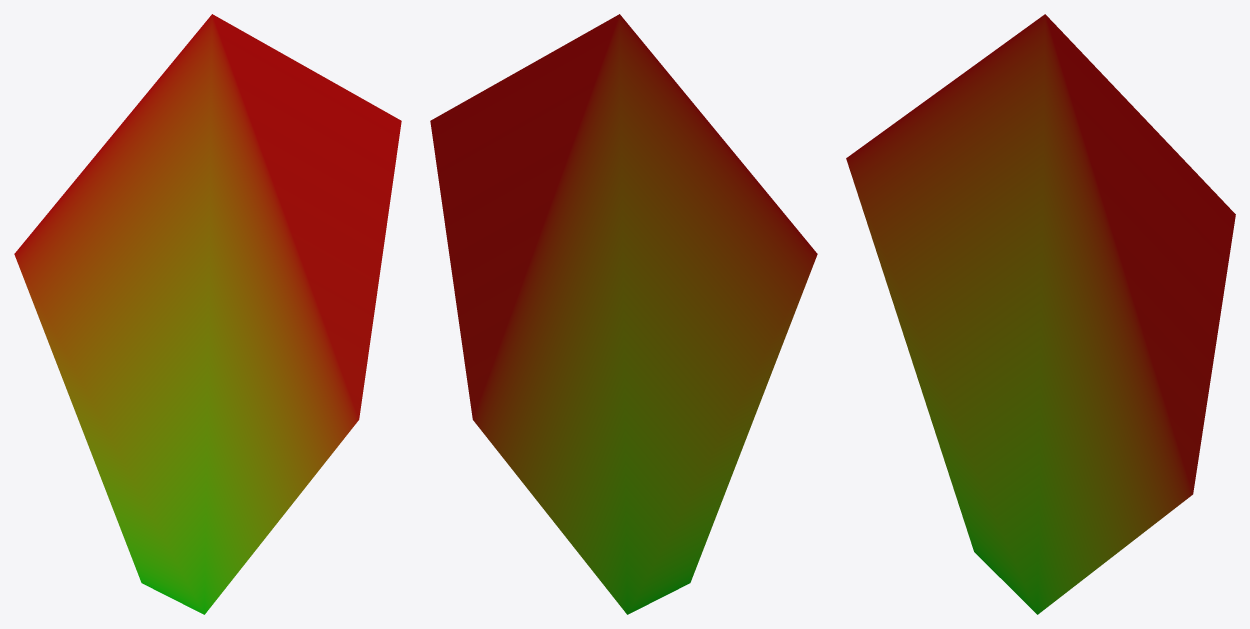
The model's file is Alpine Bearberry_LOD5_Var10_xb0gdazqx.fbx.
3 renders of one model, left to right at view 1: azimuth 30°, elevation 25°; view 2: azimuth 150°, elevation 25°; view 3: azimuth 330°, elevation 25°, orthographic.
Parts seen in each view (by area): view 1: _0eys_Var10_LOD5; view 2: _0eys_Var10_LOD5; view 3: _0eys_Var10_LOD5.
Boxes of the visible parts, bbox=[...] form: _0eys_Var10_LOD5: bbox=[14, 14, 401, 614]; _0eys_Var10_LOD5: bbox=[430, 14, 817, 614]; _0eys_Var10_LOD5: bbox=[846, 14, 1235, 614].
Bounding box in the file's own units: 7.43 × 10.98 × 4.8e-07.
